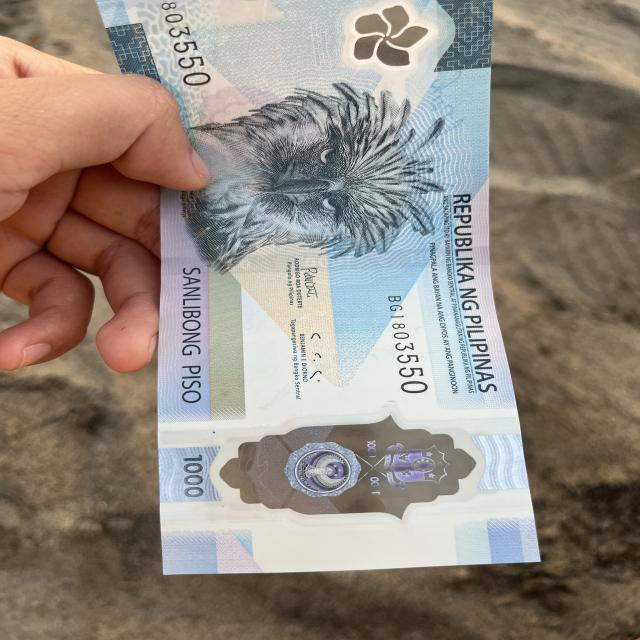clear_window: (163, 400, 527, 531)
eagle: (159, 70, 452, 281)
sampaguita: (341, 2, 432, 75)
